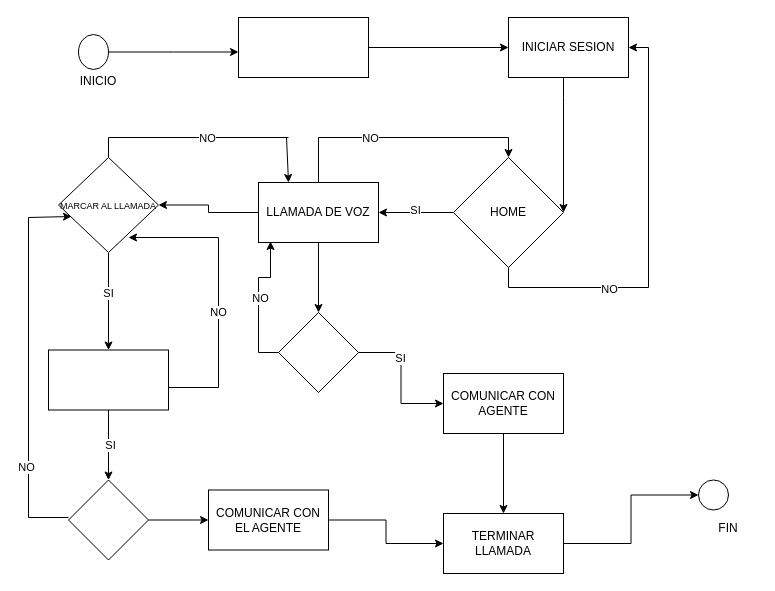
Image size: 775x591. Some labels were removed from this diagram. Here are the shapes that lost their labels. From the top down, the box of each, then its label:
(238, 16, 368, 78): ABRIR APP
(278, 312, 358, 392): ERES OYENTE
(48, 349, 168, 410): ERES UNA PERSONA CON DISCAPACIDAD
(68, 479, 148, 560): APOYO CON OYENTE
